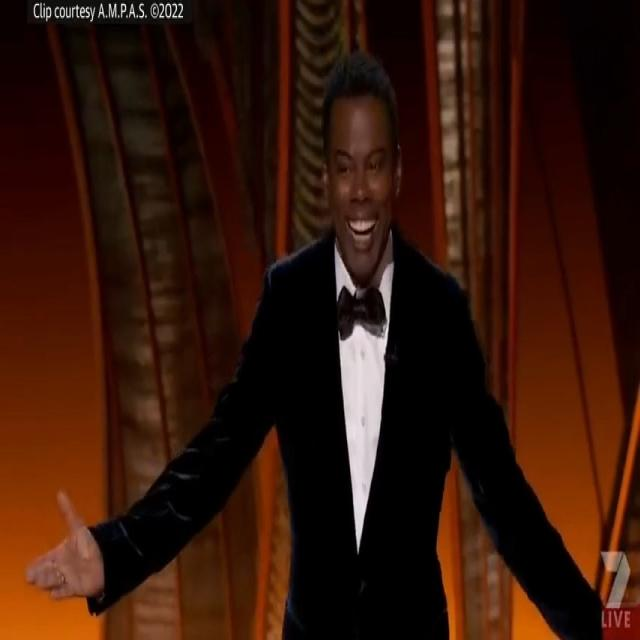non-fight: (20, 44, 618, 640)
